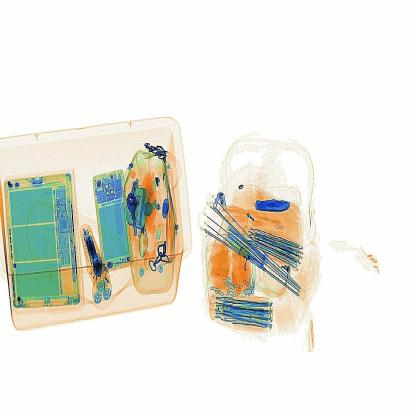knife: (254, 196, 293, 217)
